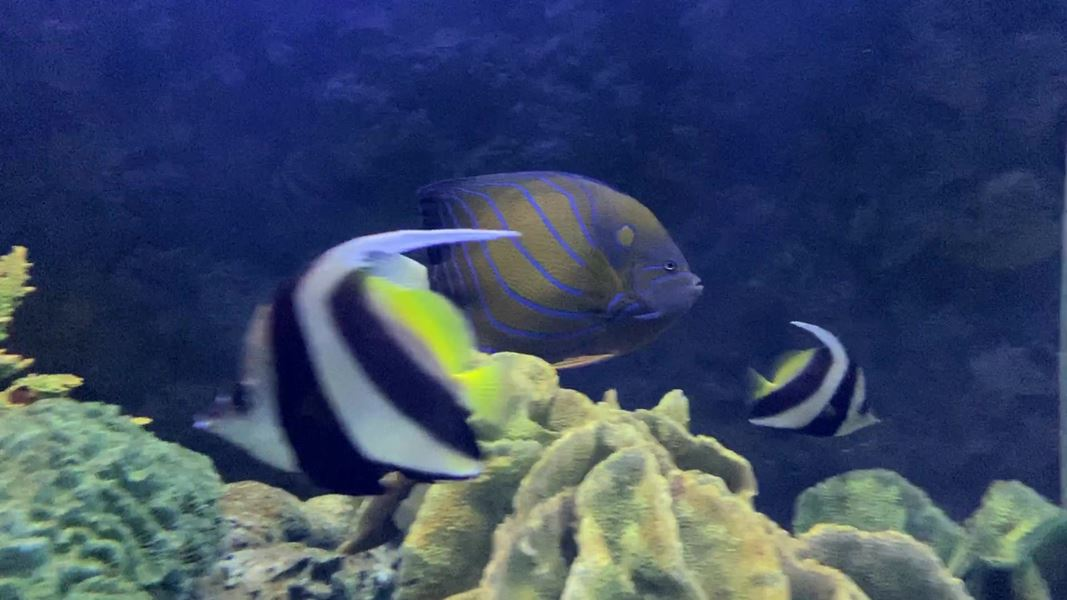Blue ring angelfish: (360, 164, 725, 386)
